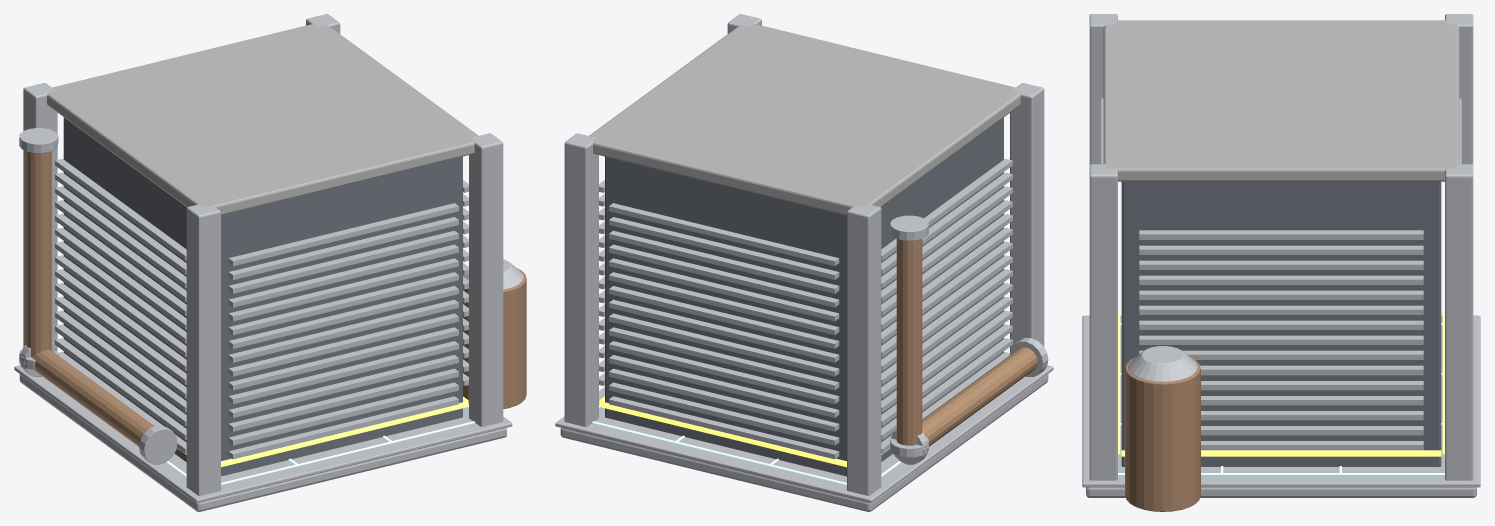
The model's file is mech_3x3_office.glb.
3 views of the same model, side by side, from view 1: azimuth 30°, elevation 25°; view 2: azimuth 150°, elevation 25°; view 3: azimuth 270°, elevation 25° (orthographic). The views are drawn at different scales.
Parts seen in each view (by area): view 1: int_ceiling, ext_core, ext_louver3, ext_louver2, int_columns, int_slab_edge, ext_bigpipe2, int_slab, ext_bigpipe, ext_tank, ext_mech_glow, ext_bigpipe_fl0 (+3 smaller); view 2: int_ceiling, ext_core, ext_louver1, int_columns, ext_louver2, int_slab_edge, ext_bigpipe2, int_slab, ext_bigpipe, ext_mech_glow, ext_louver0, ext_bigpipe2_fl1 (+2 smaller); view 3: int_ceiling, ext_core, ext_louver0, int_columns, ext_tank, int_slab_edge, int_slab, ext_mech_glow, ext_tank_cap, int_grid.
Part boxes in pixels (left/top/right/bottom): int_ceiling: left=47, top=22, right=478, bottom=215; ext_core: left=63, top=117, right=462, bottom=476; ext_louver3: left=228, top=203, right=458, bottom=459; ext_louver2: left=55, top=158, right=186, bottom=453; int_columns: left=23, top=14, right=503, bottom=495; int_slab_edge: left=14, top=365, right=512, bottom=503; ext_bigpipe2: left=26, top=151, right=51, bottom=356; int_slab: left=19, top=374, right=506, bottom=511; ext_bigpipe: left=31, top=350, right=154, bottom=446; ext_tank: left=463, top=268, right=526, bottom=408; ext_mech_glow: left=177, top=396, right=468, bottom=467; ext_bigpipe_fl0: left=139, top=425, right=177, bottom=464; int_ceiling: left=589, top=23, right=1020, bottom=215; ext_core: left=605, top=117, right=1003, bottom=476; ext_louver1: left=609, top=203, right=839, bottom=459; int_columns: left=564, top=14, right=1044, bottom=495; ext_louver2: left=881, top=158, right=1012, bottom=453; int_slab_edge: left=555, top=365, right=1053, bottom=503; ext_bigpipe2: left=896, top=239, right=922, bottom=445; int_slab: left=560, top=374, right=1048, bottom=511; ext_bigpipe: left=922, top=347, right=1037, bottom=446; ext_mech_glow: left=599, top=396, right=888, bottom=467; ext_louver0: left=599, top=180, right=604, bottom=385; ext_bigpipe2_fl1: left=890, top=215, right=928, bottom=240; int_ceiling: left=1103, top=20, right=1459, bottom=181; ext_core: left=1121, top=181, right=1441, bottom=466; ext_louver0: left=1139, top=230, right=1423, bottom=450; int_columns: left=1089, top=14, right=1473, bottom=480; ext_tank: left=1125, top=357, right=1200, bottom=511; int_slab_edge: left=1082, top=315, right=1480, bottom=487; int_slab: left=1086, top=487, right=1476, bottom=497; ext_mech_glow: left=1118, top=314, right=1444, bottom=456; ext_tank_cap: left=1128, top=346, right=1197, bottom=381; int_grid: left=1118, top=322, right=1444, bottom=474.
Bounding box in the file's own units: 4.1 × 3 × 3.36.
